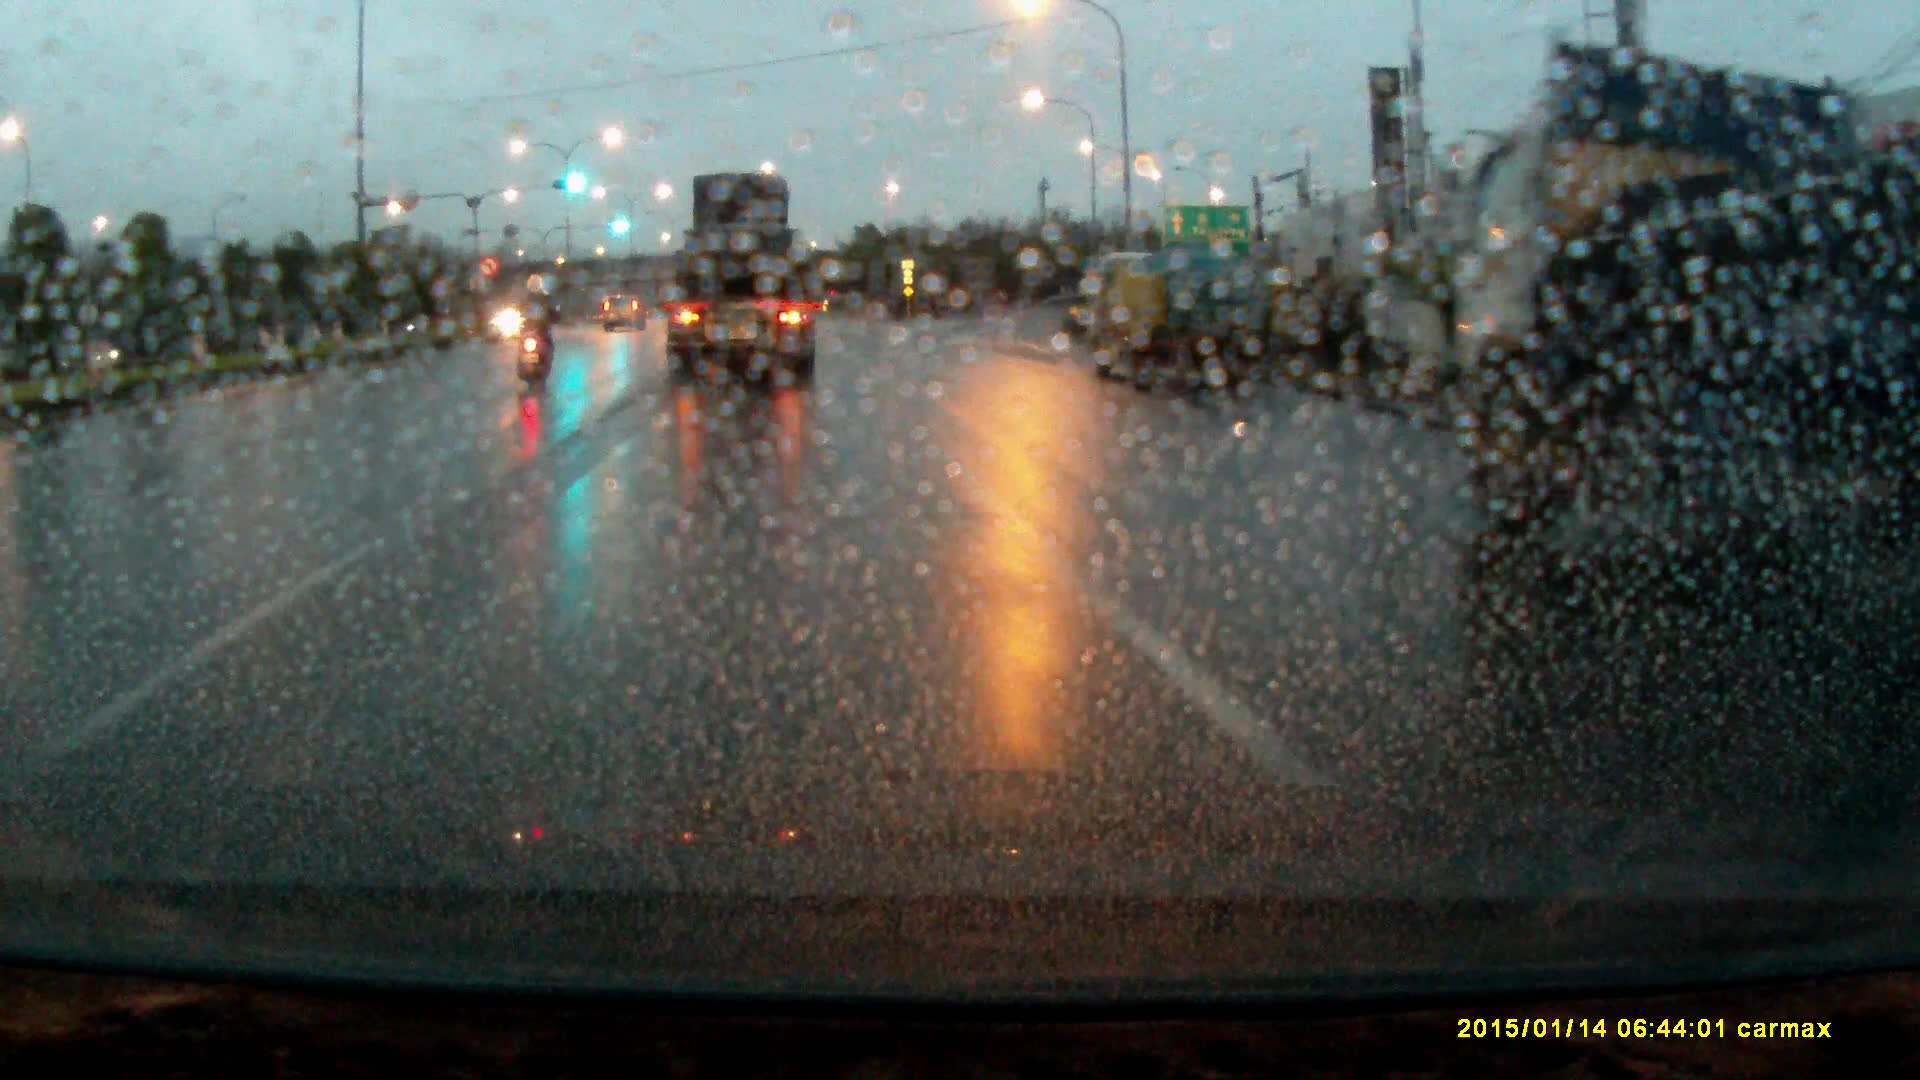rider: (512, 272, 567, 379)
vehicle: (1461, 40, 1920, 544), (661, 169, 821, 394), (1074, 253, 1275, 396), (603, 294, 647, 335)
